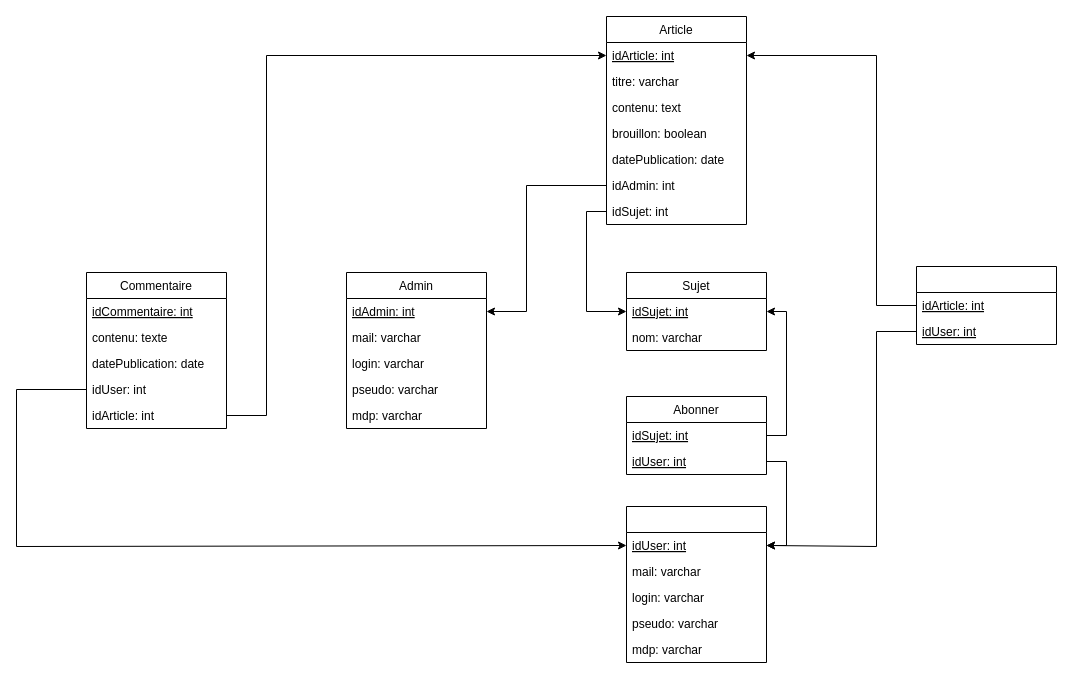
Some shapes in this 1073 by 679 pixel diagram are drawn without their labels. Here are the shapes that lost their labels. From the top down, the box of each, then its label:
(916, 266, 1056, 344): Aimer
(626, 506, 766, 662): Utilisateur
